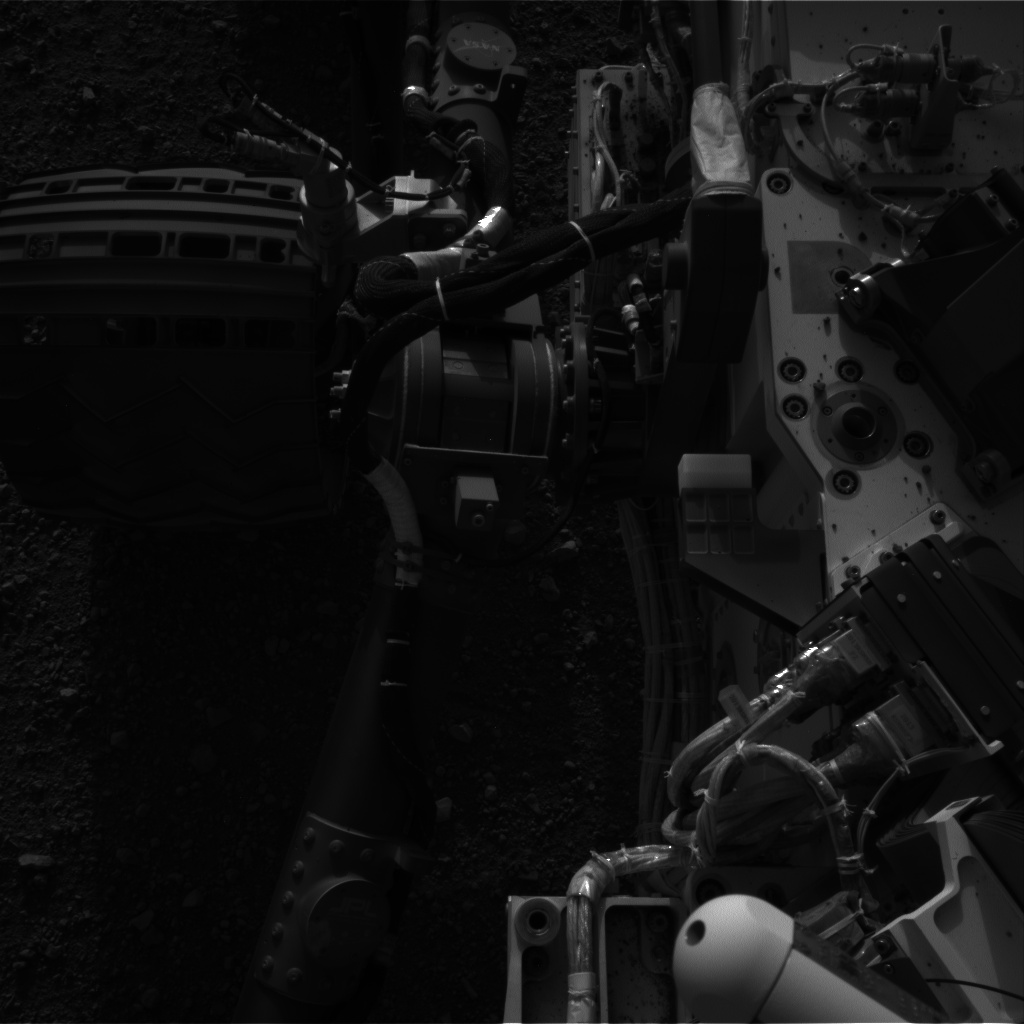soil: (18, 553, 247, 911), (12, 14, 242, 156), (524, 632, 592, 839)
